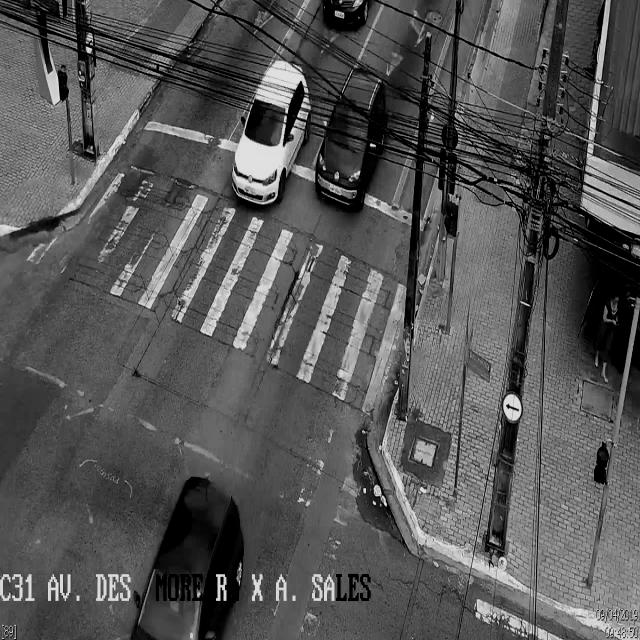Car: (128, 480, 242, 639), (228, 59, 304, 206), (316, 72, 386, 211), (318, 0, 377, 31)
